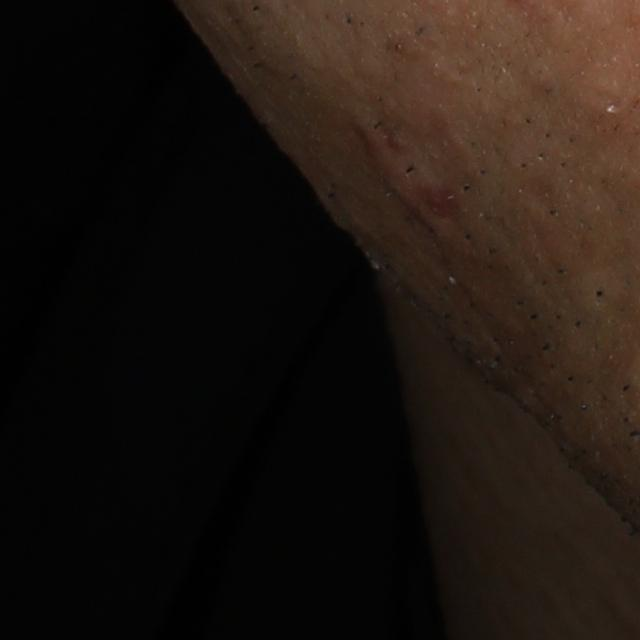hypertrophic_scar: (358, 113, 471, 203)
